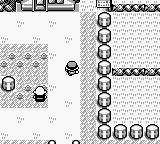leer: (97, 0, 111, 11)
main: (65, 61, 79, 76)
no-caminable: (96, 12, 159, 140), (47, 0, 80, 11), (0, 76, 14, 91), (17, 0, 34, 11), (0, 0, 16, 11)
npc: (33, 86, 47, 102)
puerta: (34, 0, 46, 11)
salto: (112, 68, 159, 75), (112, 4, 159, 11)
